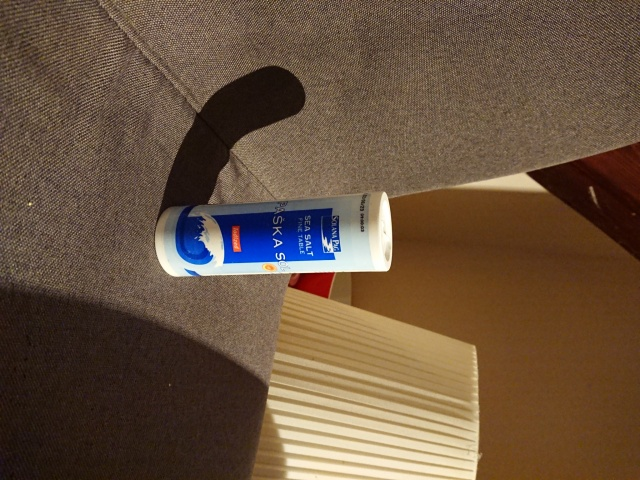Solana Pag Fine Sea Salt 250g: (151, 187, 396, 281)
